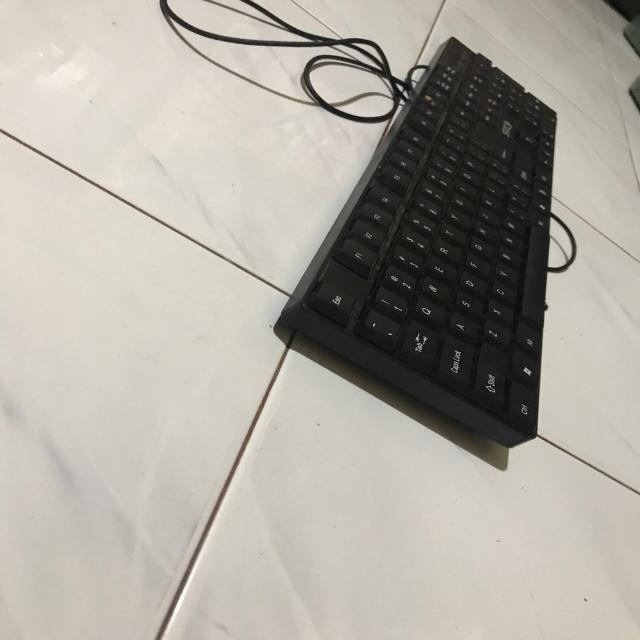-mouse-: (278, 35, 564, 459)
